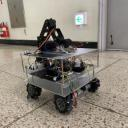cart: (20, 48, 100, 114)
